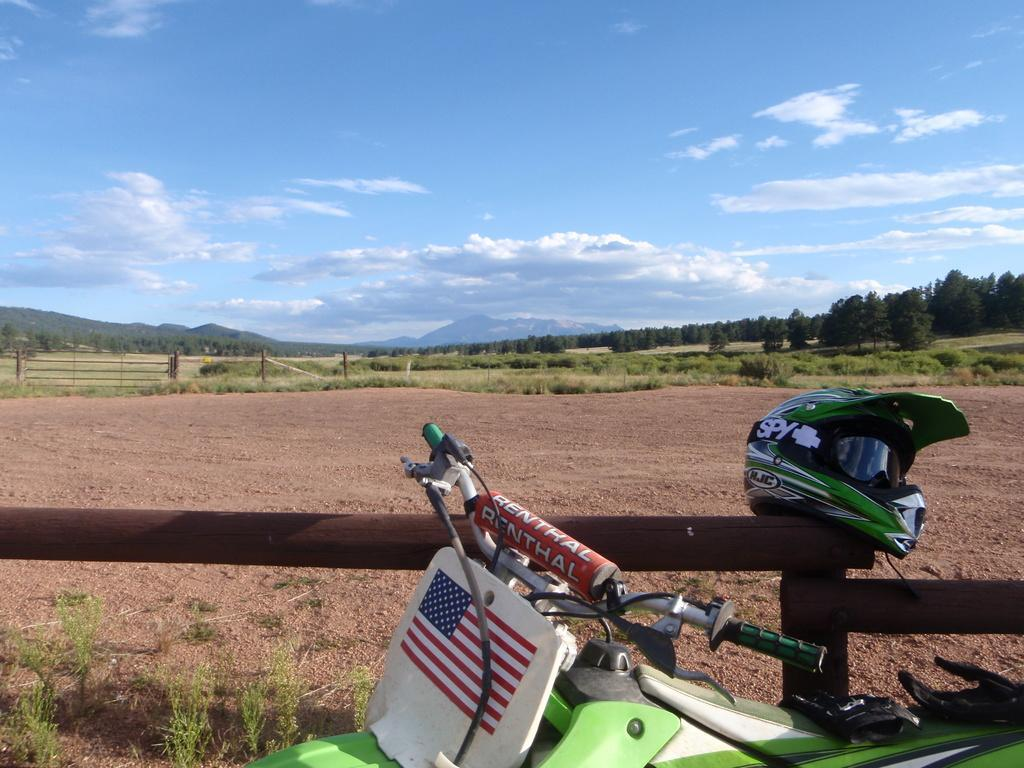helmet: (743, 385, 971, 562)
